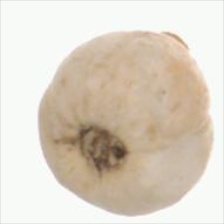L4: (37, 29, 213, 216)
